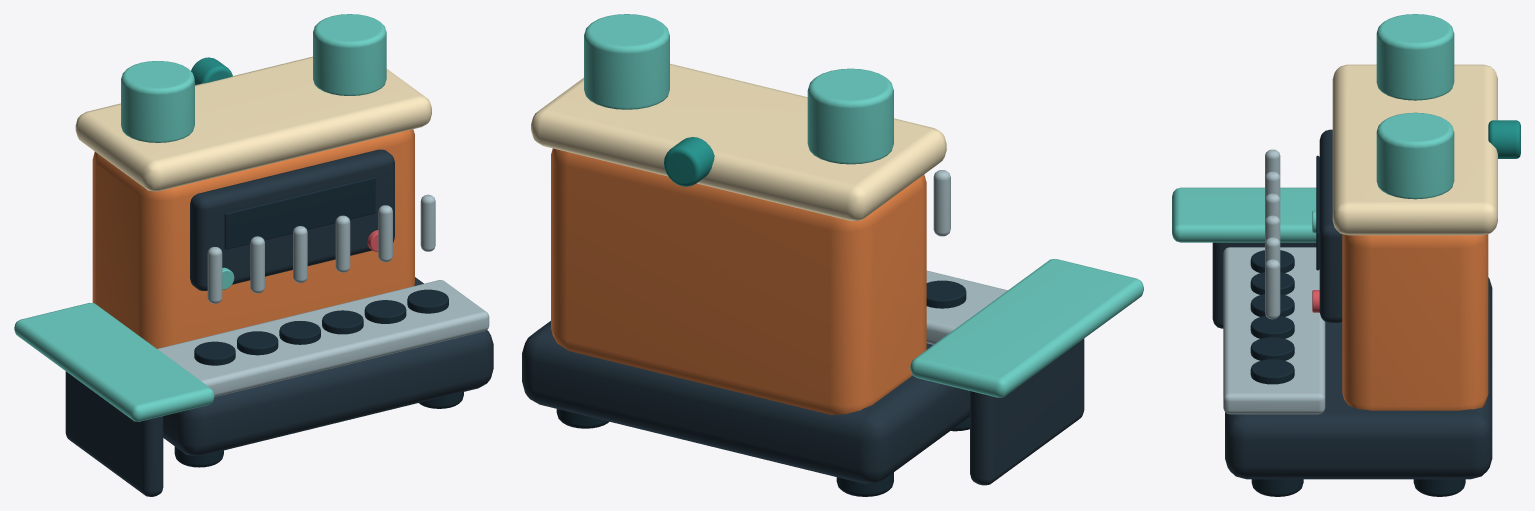
Rendered from filler.glb.
3 views of the same model, side by side, from view 1: azimuth 30°, elevation 25°; view 2: azimuth 150°, elevation 25°; view 3: azimuth 270°, elevation 25° (orthographic). The views are drawn at different scales.
Parts seen in each view (by area): view 1: Orange housing, Cream top, Base, Can deck, Output tray, Screen backing, Output foot, Reservoir, Reservoir.001, Screen, Socket.003, Filling head.003 (+12 smaller); view 2: Orange housing, Cream top, Base, Output tray, Output foot, Reservoir, Reservoir.001, Can deck, Feed pipe, Filling head, Socket, Rubber foot; view 3: Orange housing, Base, Cream top, Can deck, Output tray, Reservoir.001, Reservoir, Screen backing, Output foot, Feed pipe, Socket.005, Filling head.005 (+8 smaller).
Part boxes in pixels (<box>): Orange housing: <box>92,129,414,348</box>; Cream top: <box>75,56,431,191</box>; Base: <box>163,277,493,456</box>; Can deck: <box>157,280,489,396</box>; Output tray: <box>14,302,214,421</box>; Screen backing: <box>190,149,394,290</box>; Output foot: <box>65,371,163,496</box>; Reservoir: <box>121,61,194,142</box>; Reservoir.001: <box>313,14,386,95</box>; Screen: <box>224,177,375,249</box>; Socket.003: <box>322,310,363,334</box>; Filling head.003: <box>335,215,350,272</box>; Orange housing: <box>551,148,926,414</box>; Cream top: <box>531,63,946,220</box>; Base: <box>522,321,969,483</box>; Output tray: <box>910,259,1143,397</box>; Output foot: <box>970,339,1084,485</box>; Reservoir: <box>807,68,893,164</box>; Reservoir.001: <box>584,14,669,109</box>; Can deck: <box>926,270,1007,344</box>; Feed pipe: <box>664,137,714,186</box>; Filling head: <box>933,170,950,236</box>; Socket: <box>926,280,966,308</box>; Rubber foot: <box>836,472,893,496</box>; Orange housing: <box>1342,234,1488,410</box>; Base: <box>1225,277,1492,479</box>; Cream top: <box>1332,64,1497,235</box>; Can deck: <box>1223,247,1325,414</box>; Output tray: <box>1172,187,1316,242</box>; Reservoir.001: <box>1376,112,1454,199</box>; Reservoir: <box>1376,14,1454,100</box>; Screen backing: <box>1319,129,1342,322</box>; Output foot: <box>1212,242,1316,328</box>; Feed pipe: <box>1488,120,1520,158</box>; Socket.005: <box>1250,359,1294,384</box>; Filling head.005: <box>1265,259,1280,319</box>.
Size of the model in its own units: 2.94 by 2.37 by 2.15.
